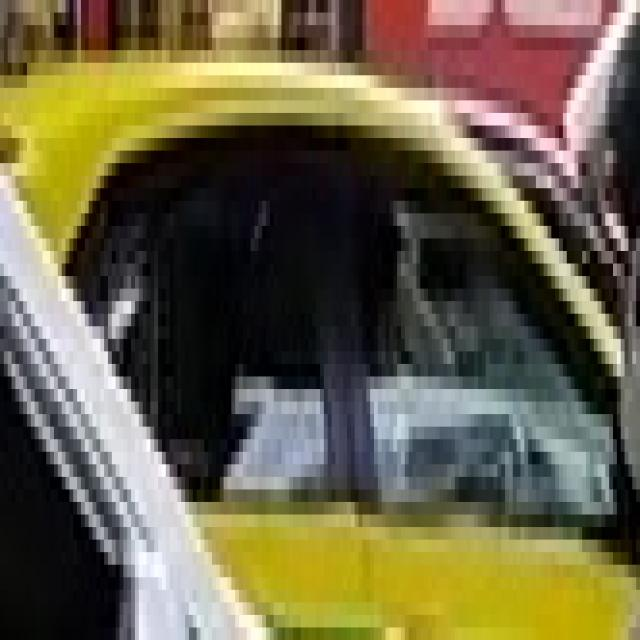door: (358, 0, 636, 125)
